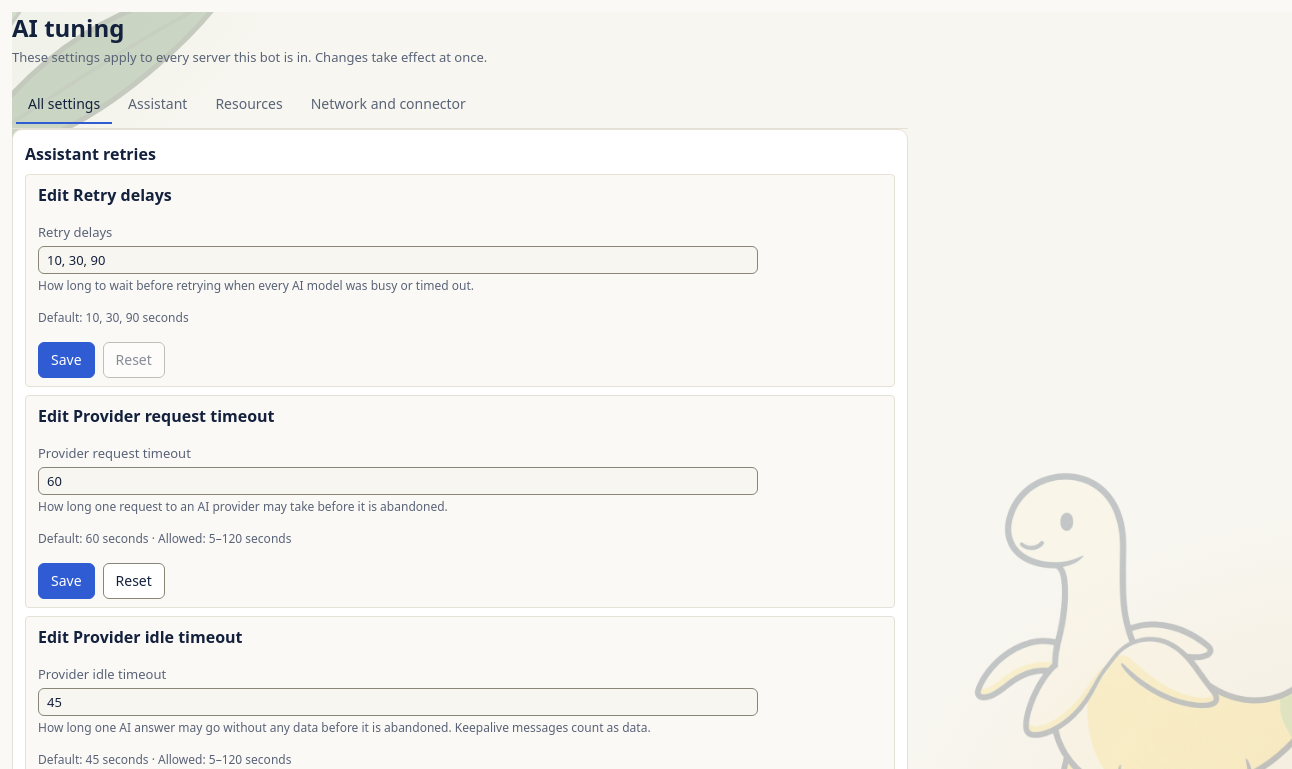
Test case: AssistantTuningPage › reset on a non-default row sends DELETE
The image size is (1292, 769).
Expected: the number field labelled "Provider request timeout" is shown, [38,467,758,495]
Step 1. Click the button "Reset" below "60 seconds" → (134, 581), box [103,563,165,599]
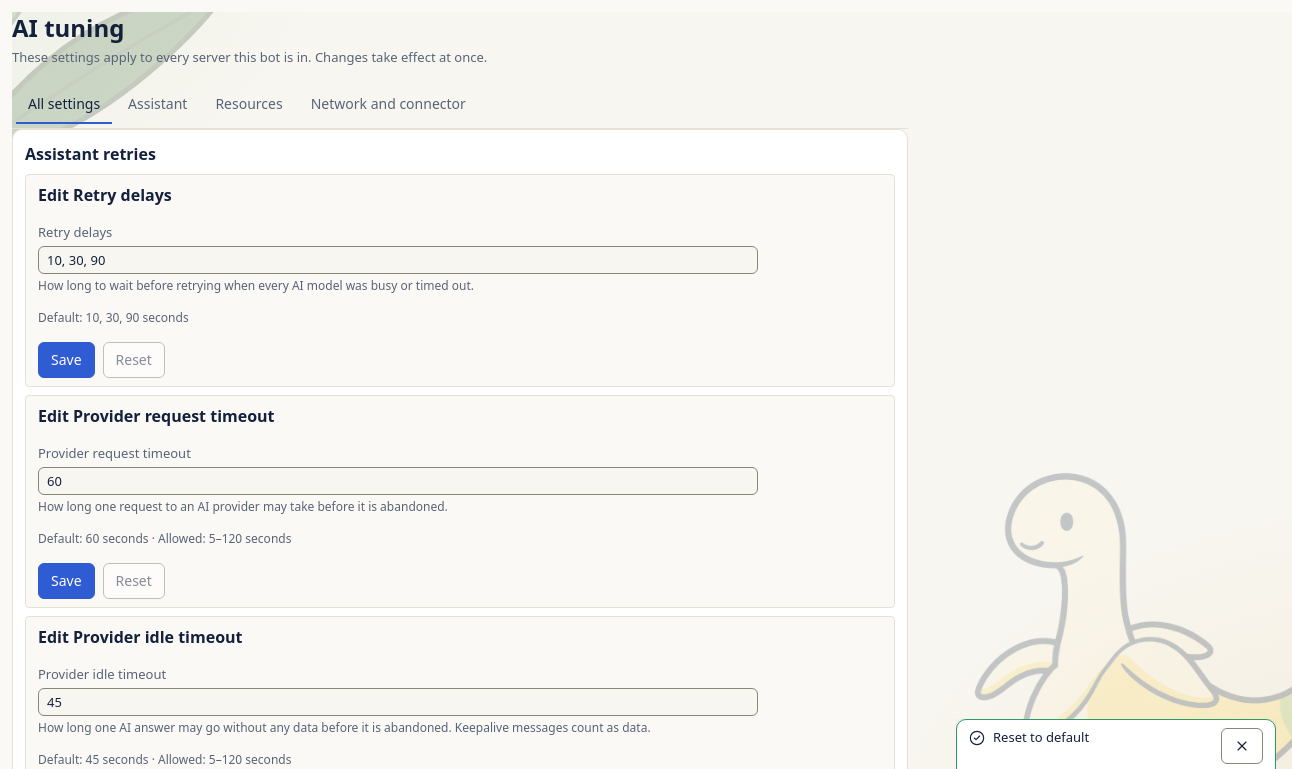
Expected: the text "Reset to default" is shown, [993,728,1089,746]
